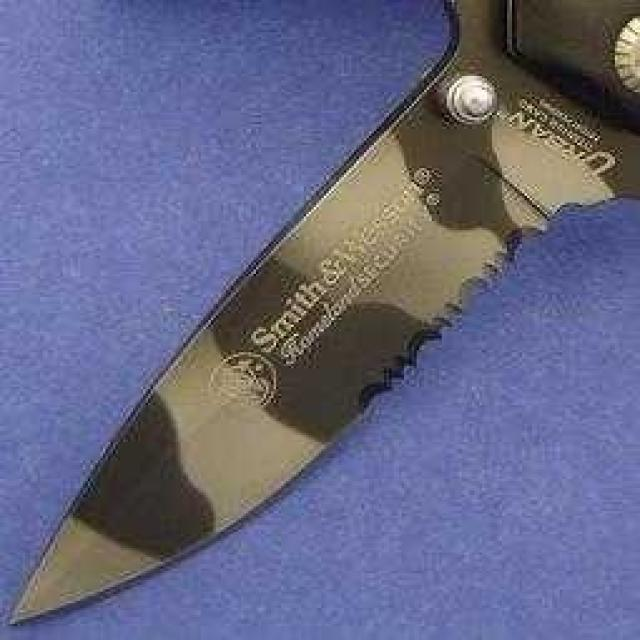Knife: (17, 0, 640, 631)
